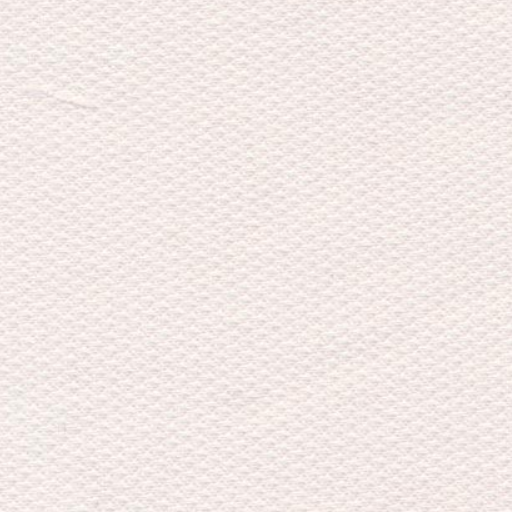DuanSha: (29, 66, 104, 126)
